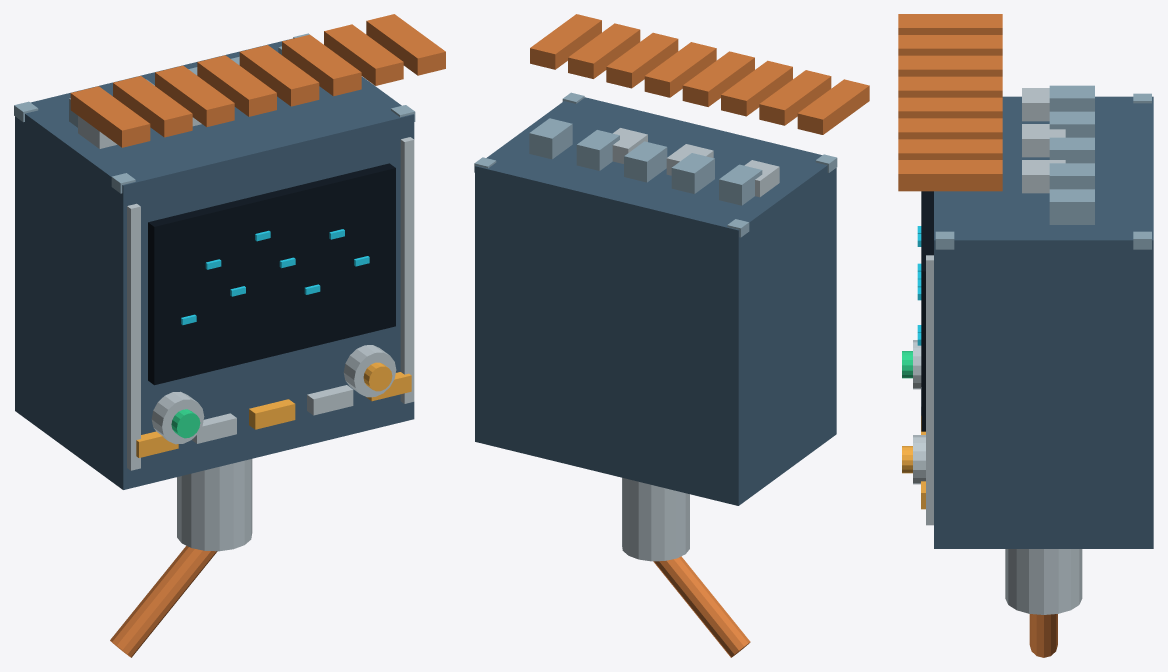
Rendered from 26_L76_CathodeCurrentShunt.fbx.
3 renders of one model, left to right at view 1: azimuth 30°, elevation 25°; view 2: azimuth 150°, elevation 25°; view 3: azimuth 270°, elevation 25°, orthographic. The views are drawn at different scales.
Parts seen in each view (by area): view 1: CathodeCurrentShunt; view 2: CathodeCurrentShunt; view 3: CathodeCurrentShunt.
Part boxes in pixels (x1,y1,x2,y2): CathodeCurrentShunt: (14,14,445,657); CathodeCurrentShunt: (474,14,869,657); CathodeCurrentShunt: (898,14,1153,657).
Size of the model in its own units: 69 by 122 by 46.5.
